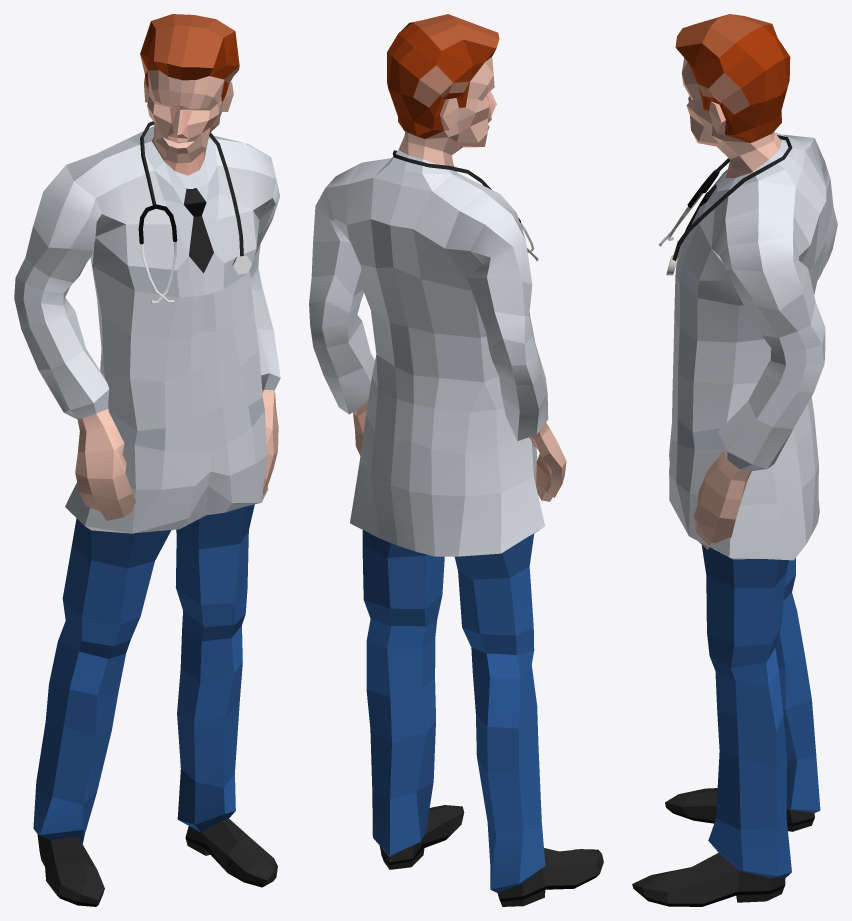
File: doctor.glb
3 views of the same model, side by side, from view 1: azimuth 30°, elevation 25°; view 2: azimuth 150°, elevation 25°; view 3: azimuth 270°, elevation 25° (orthographic). The views are drawn at different scales.
Visible parts, largest first — view 1: doctor; view 2: doctor; view 3: doctor.
Part boxes in pixels (x1,y1,x2,y2): doctor: (14,14,280,906); doctor: (309,14,603,906); doctor: (632,14,837,906).
Bounding box in the file's own units: 0.5478 × 1.78 × 0.3869.
1 material, 1 textured.
